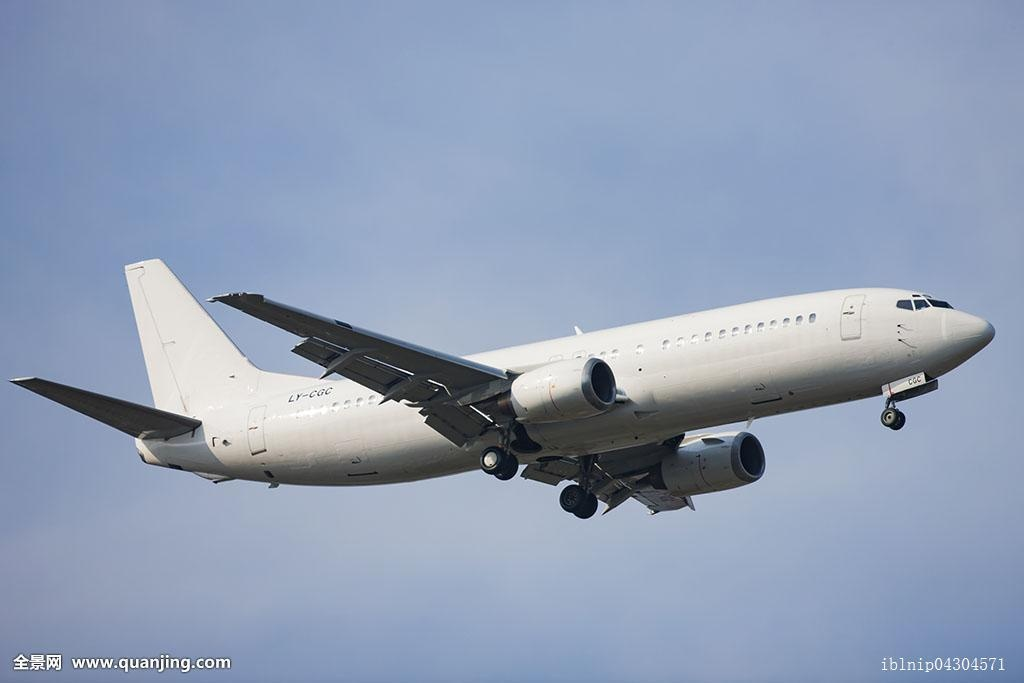airplane: (1, 254, 1000, 485)
